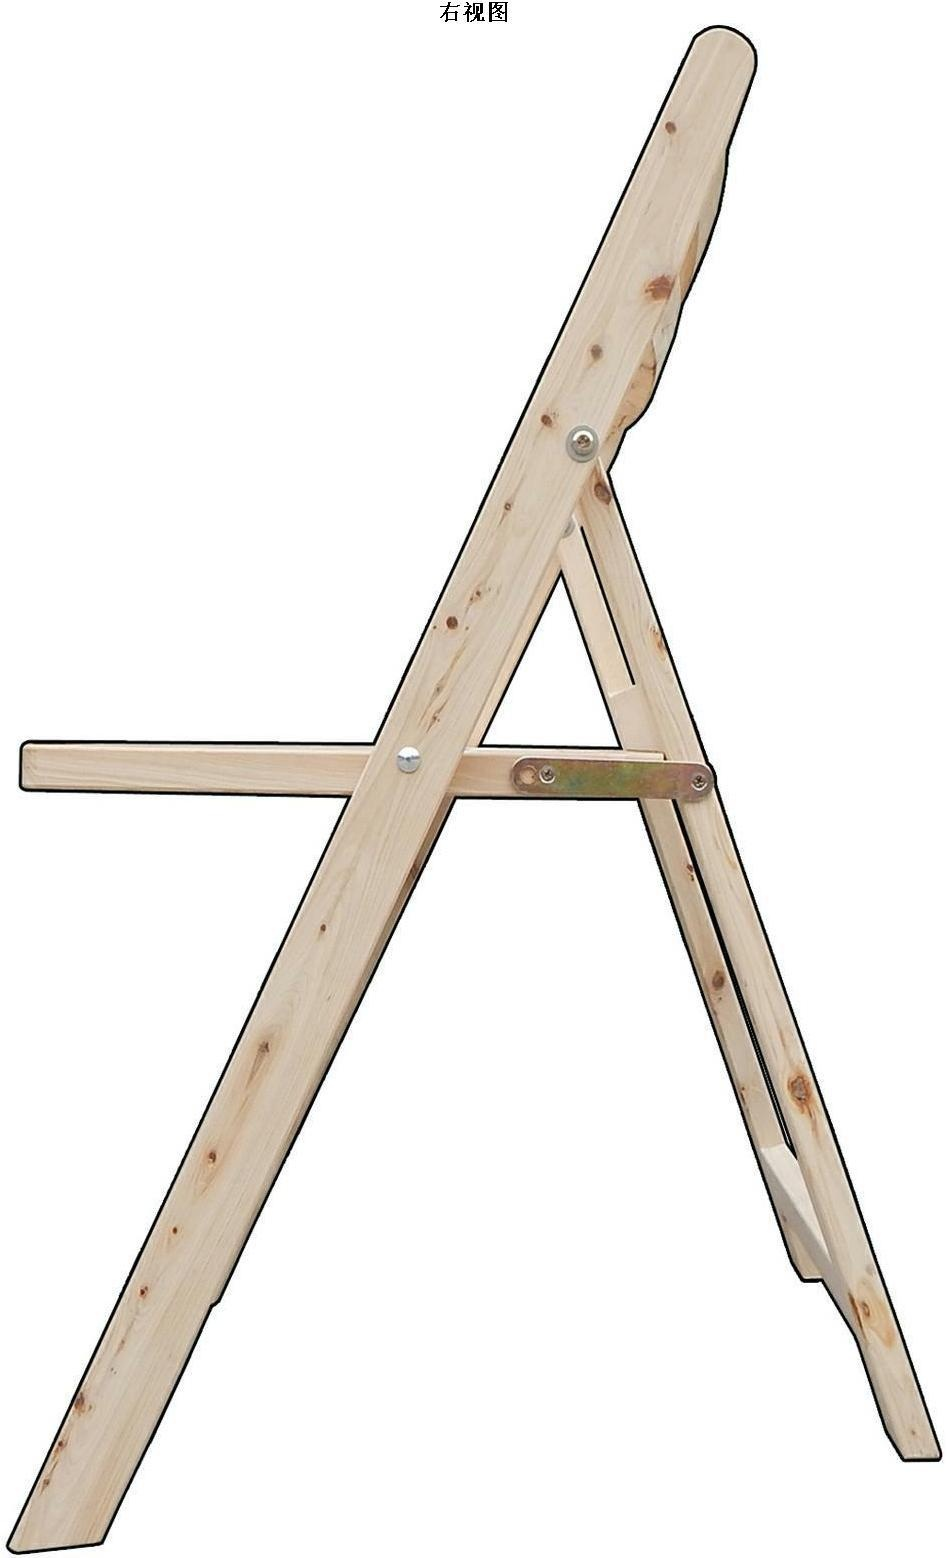obstacle: (4, 0, 942, 1557)
